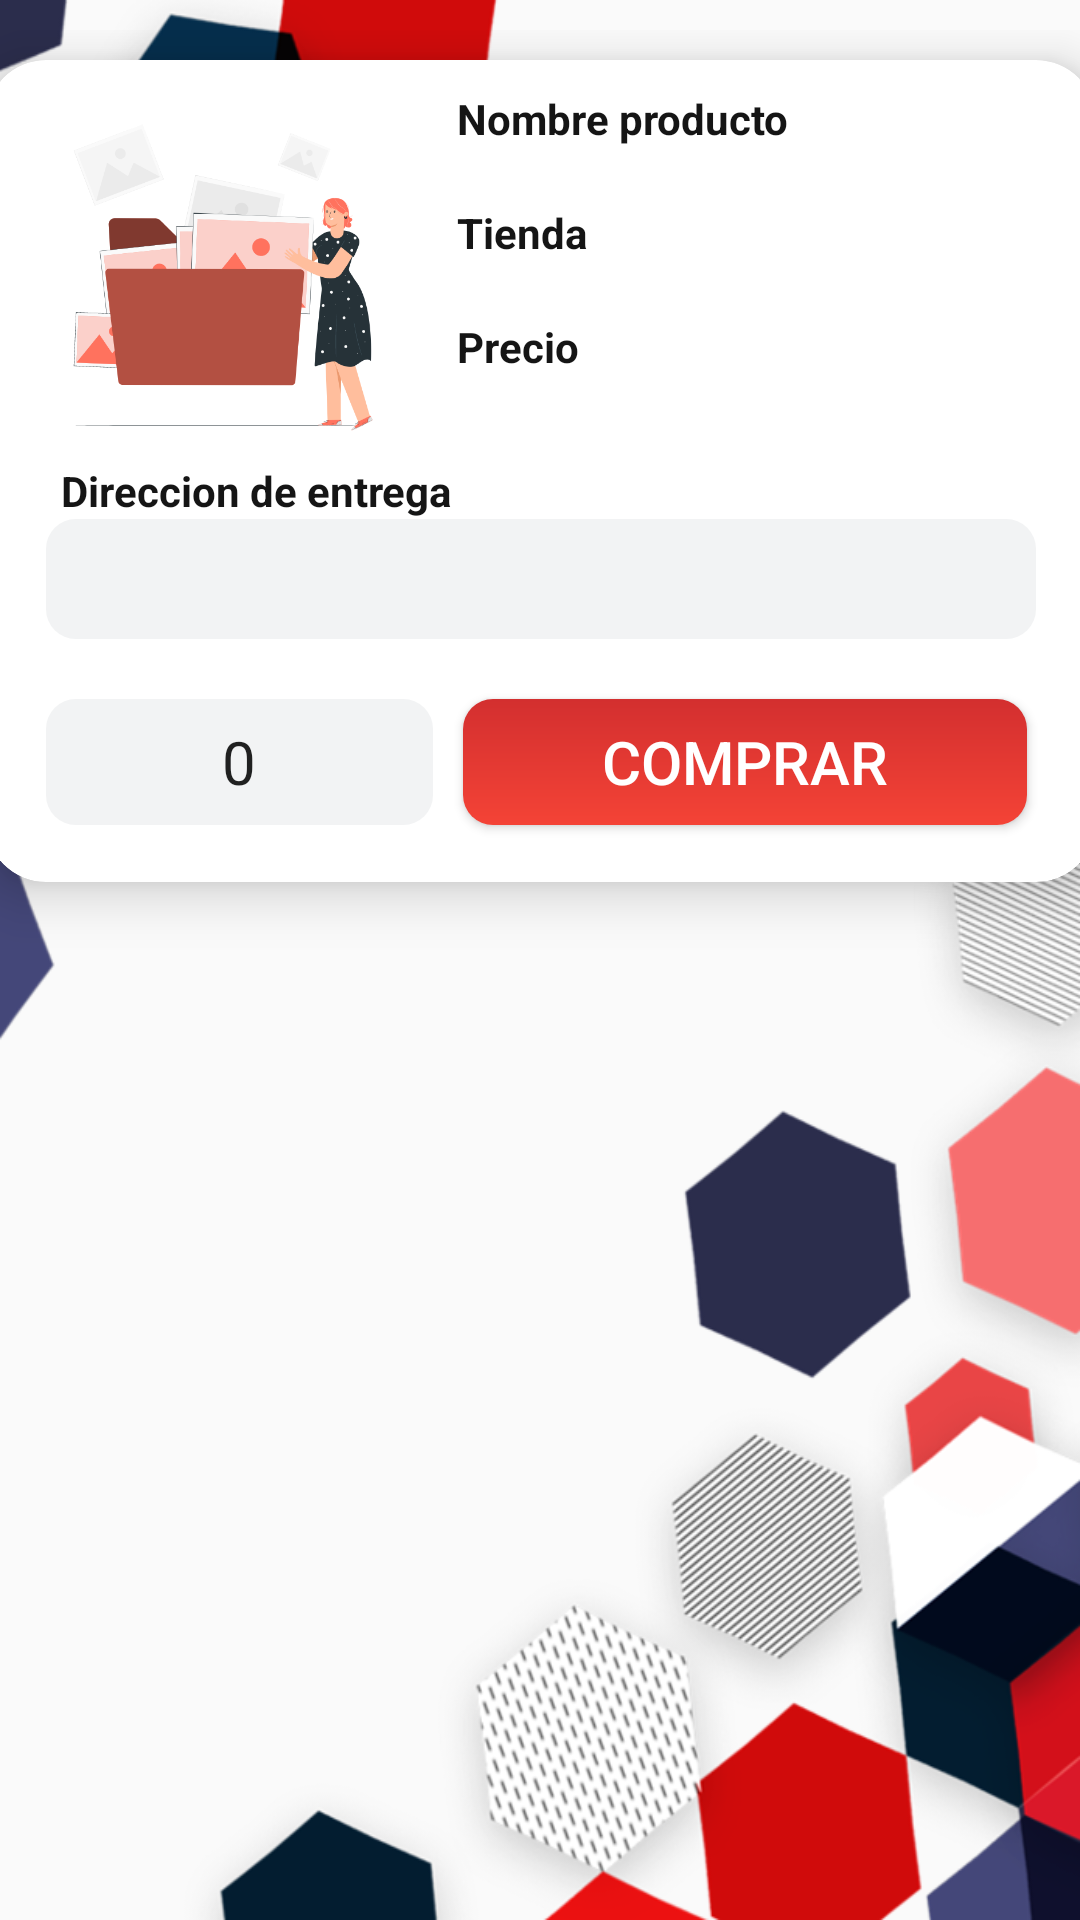

Named icons in this screenshot (1080 x 1920) and their centers, point (x, y):
folder pana: point (223, 314)
